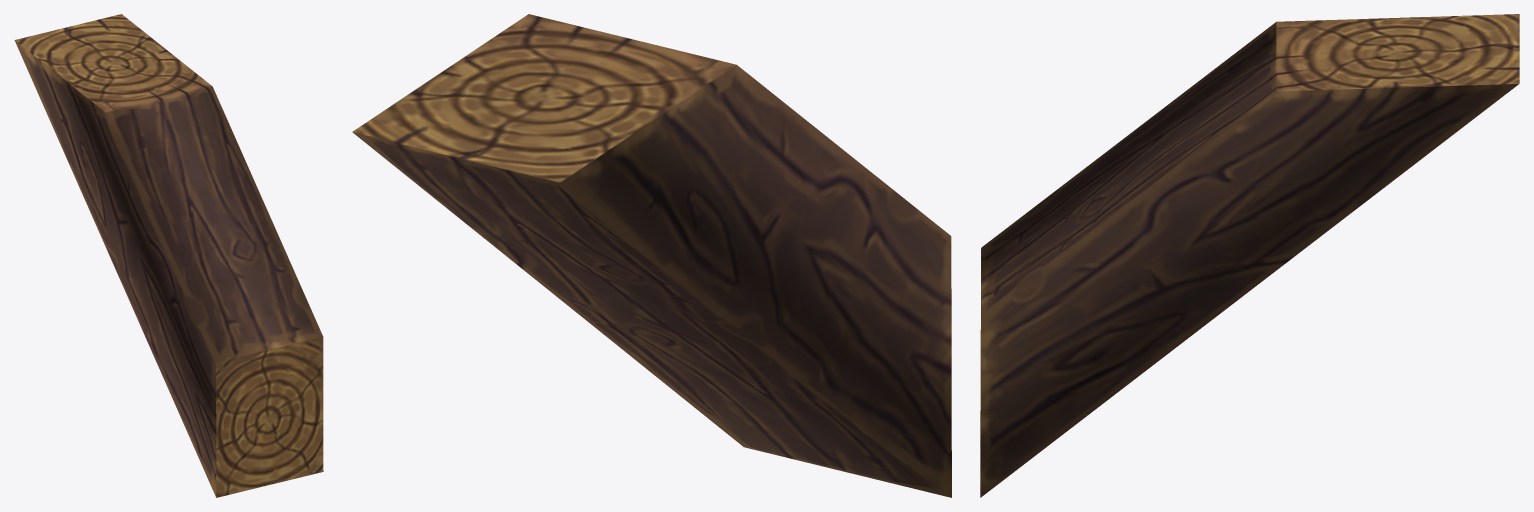
Rendered from plank4.glb.
3 views of the same model, side by side, from view 1: azimuth 30°, elevation 25°; view 2: azimuth 150°, elevation 25°; view 3: azimuth 270°, elevation 25° (orthographic). The views are drawn at different scales.
Visible parts, largest first — view 1: planks.005; view 2: planks.005; view 3: planks.005.
Part boxes in pixels (x1,y1,x2,y2): planks.005: (14,14,323,497); planks.005: (352,14,951,497); planks.005: (980,14,1519,497).
Size of the model in its own units: 53.08 by 147 by 173.
Materials: 1 (1 with a texture image).
